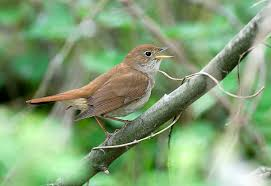соловей: (25, 35, 173, 142)
